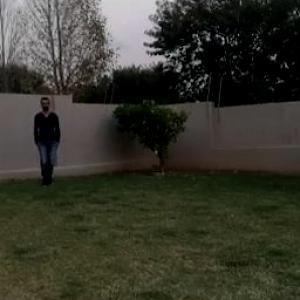follow: (37, 97, 60, 188)
